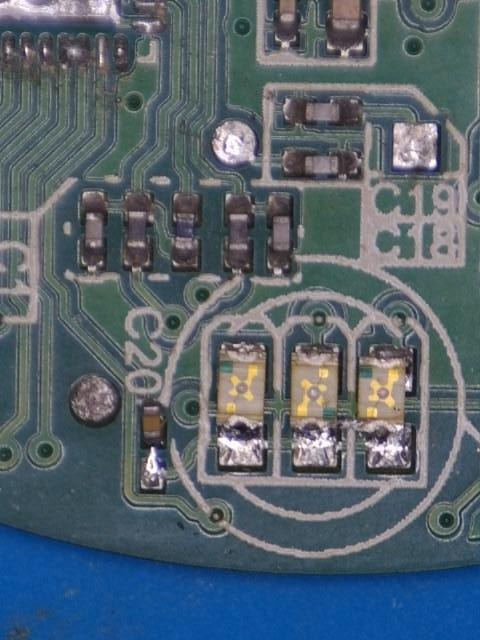pcb_defect: (356, 344, 413, 470), (289, 341, 341, 469), (216, 342, 268, 468), (292, 419, 413, 469), (140, 405, 167, 490), (140, 417, 168, 490), (57, 32, 91, 69)
